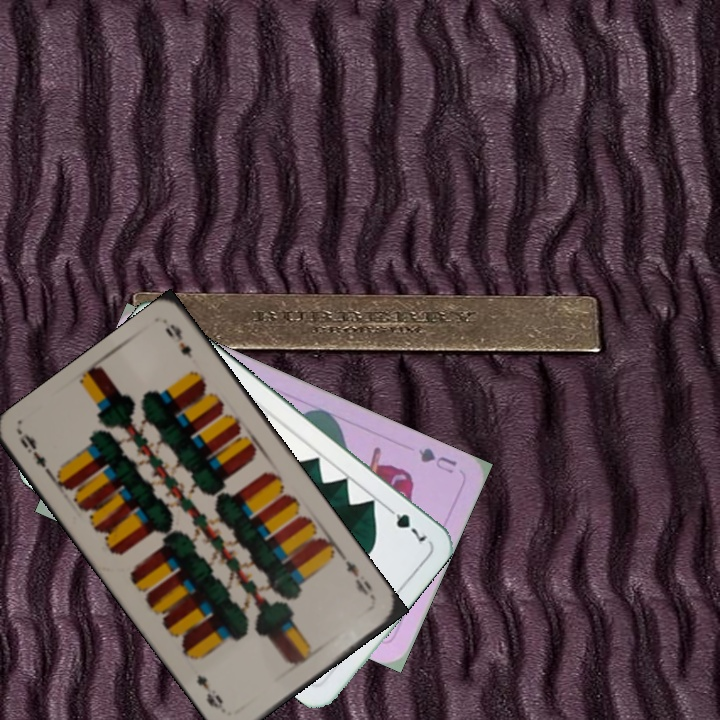E9: (15, 429, 63, 482), (341, 556, 379, 604)
G7: (381, 501, 430, 546)
GU: (414, 443, 460, 476)
